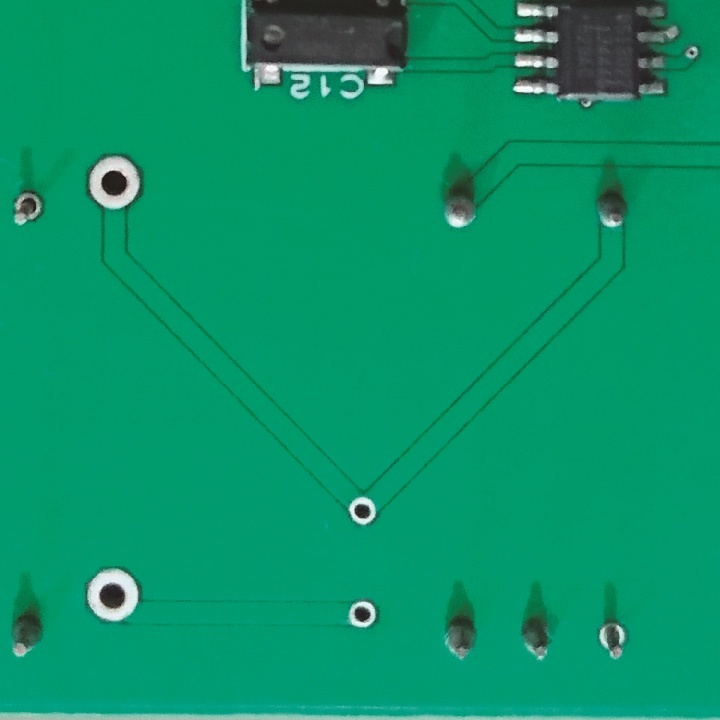F: (81, 155, 147, 214), (82, 566, 141, 626), (595, 615, 633, 663), (10, 188, 47, 229), (346, 492, 380, 532), (344, 595, 379, 631)
